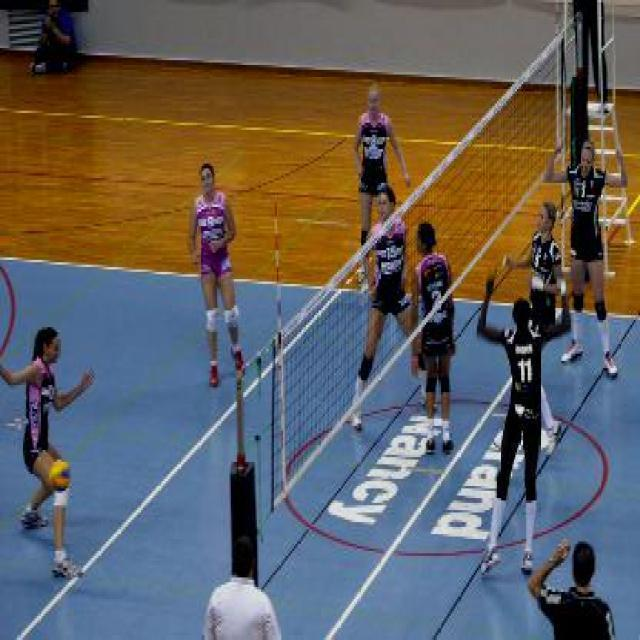volleyball: (48, 461, 72, 492)
